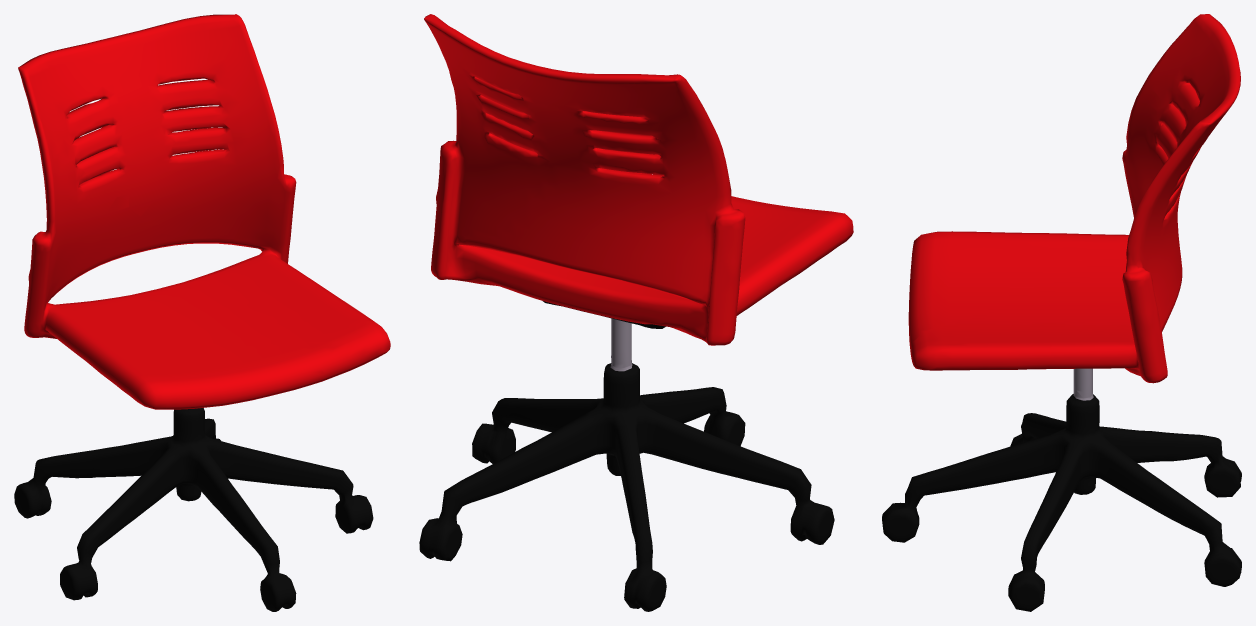
File: silla.obj
The picture shows the model from 3 angles, left to right: view 1: azimuth 30°, elevation 25°; view 2: azimuth 150°, elevation 25°; view 3: azimuth 270°, elevation 25°; orthographic projection. The views are drawn at different scales.
Parts seen in each view (by area): view 1: model.001_Material.002, model_Material.003; view 2: model.001_Material.002, model_Material.003, model.004_Material.001; view 3: model.001_Material.002, model_Material.003, model.004_Material.001.
Part boxes in pixels (x1,y1,x2,y2): model.001_Material.002: (18, 14, 390, 409); model_Material.003: (14, 408, 373, 611); model.001_Material.002: (424, 14, 853, 345); model_Material.003: (419, 363, 834, 611); model.004_Material.001: (610, 318, 632, 371); model.001_Material.002: (908, 14, 1240, 383); model_Material.003: (882, 394, 1241, 611); model.004_Material.001: (1073, 368, 1093, 400).
Size of the model in its own units: 1.3 by 1.91 by 1.32.
